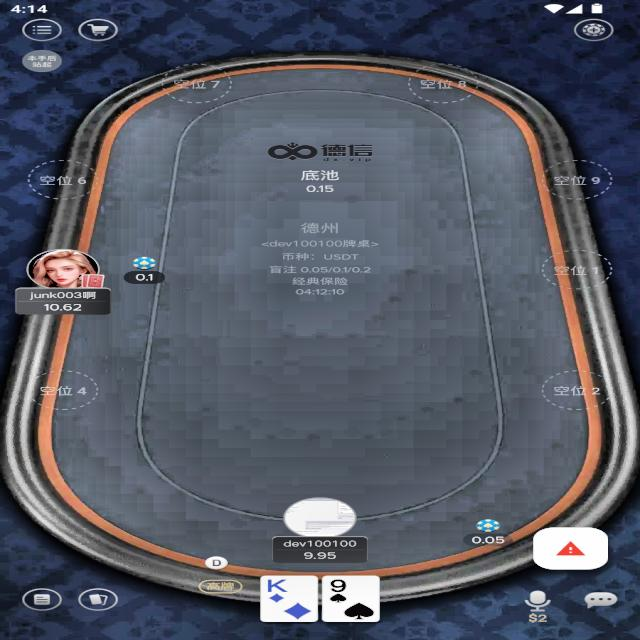9s: (327, 577, 347, 593)
Kf: (265, 576, 289, 594)
